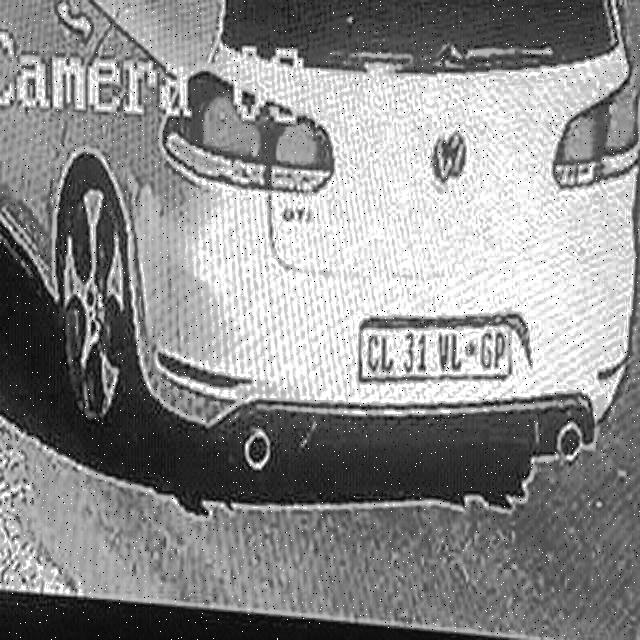Car: (3, 4, 640, 518)
